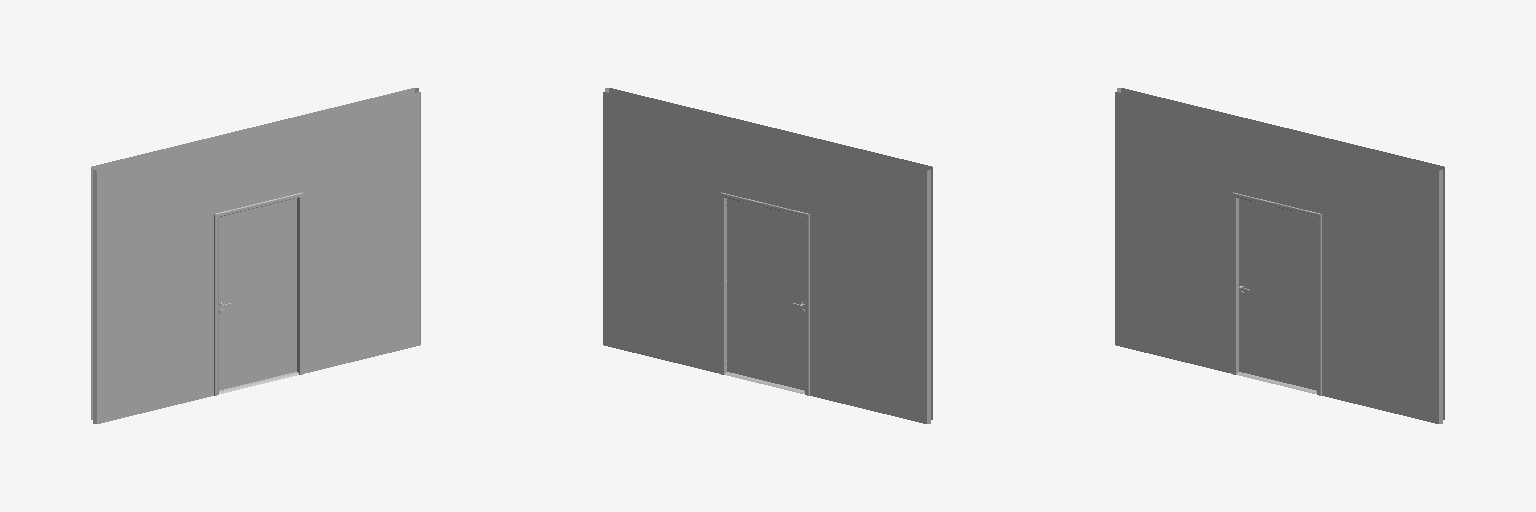
Rendered from doorway_4_plain.obj.
3 renders of one model, left to right at view 1: azimuth 30°, elevation 25°; view 2: azimuth 150°, elevation 25°; view 3: azimuth 330°, elevation 25°, orthographic.
Visible parts, largest first — view 1: doorway_4_plain, door_8; view 2: doorway_4_plain, door_8; view 3: doorway_4_plain, door_8.
Part boxes in pixels (bbox=[...]): doorway_4_plain: bbox=[91, 88, 420, 423]; door_8: bbox=[219, 198, 296, 390]; doorway_4_plain: bbox=[603, 88, 932, 423]; door_8: bbox=[726, 198, 804, 390]; doorway_4_plain: bbox=[1115, 88, 1444, 423]; door_8: bbox=[1239, 198, 1316, 390].
Bounding box in the file's own units: 4.06 × 3 × 0.18.